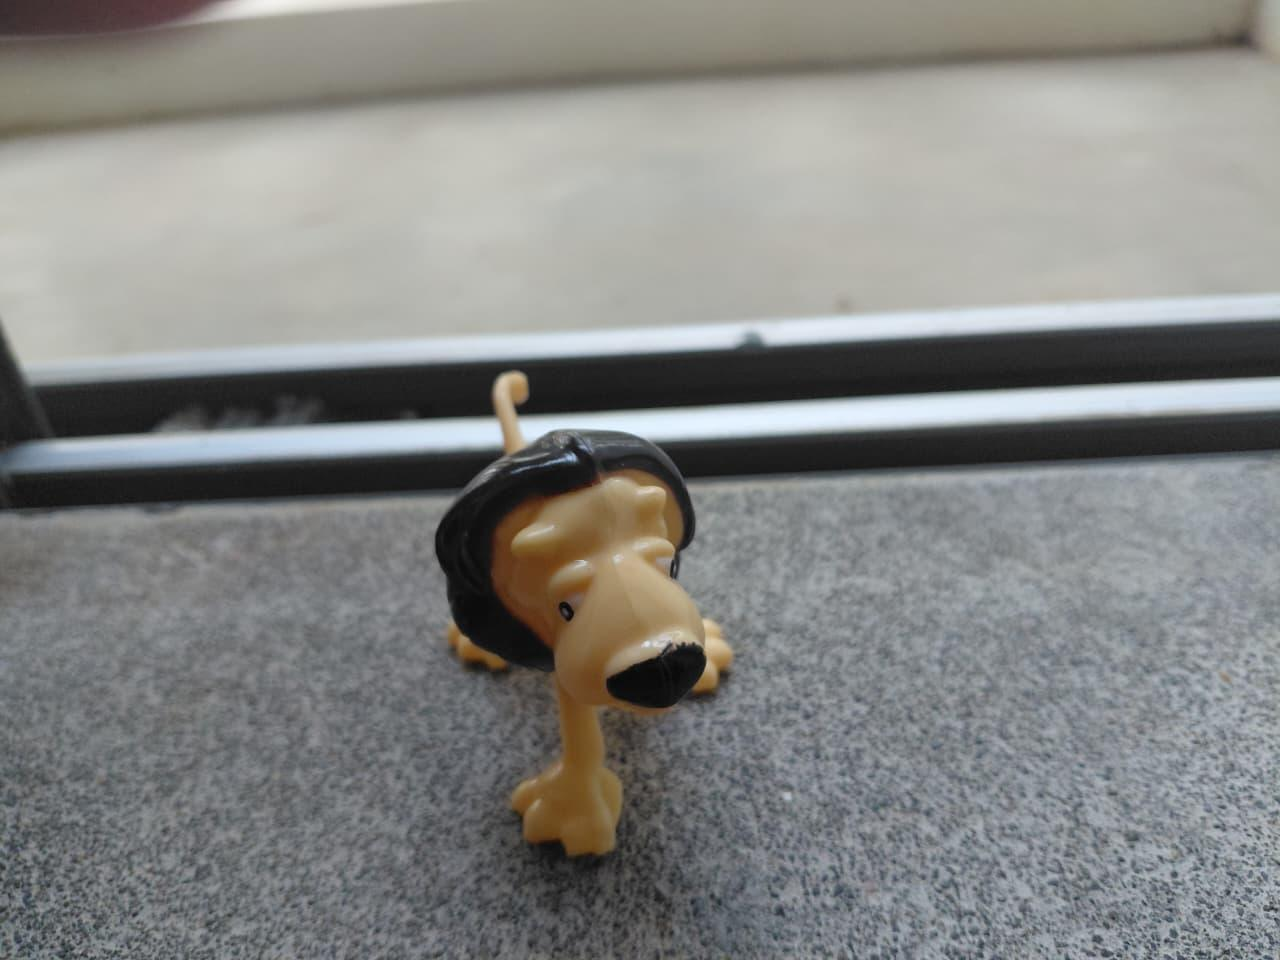lion: (424, 350, 812, 868)
